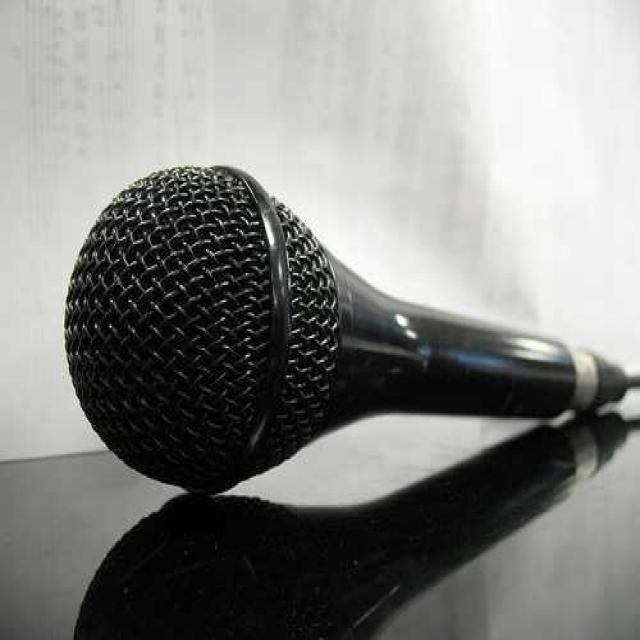microphone: (62, 166, 618, 490)
